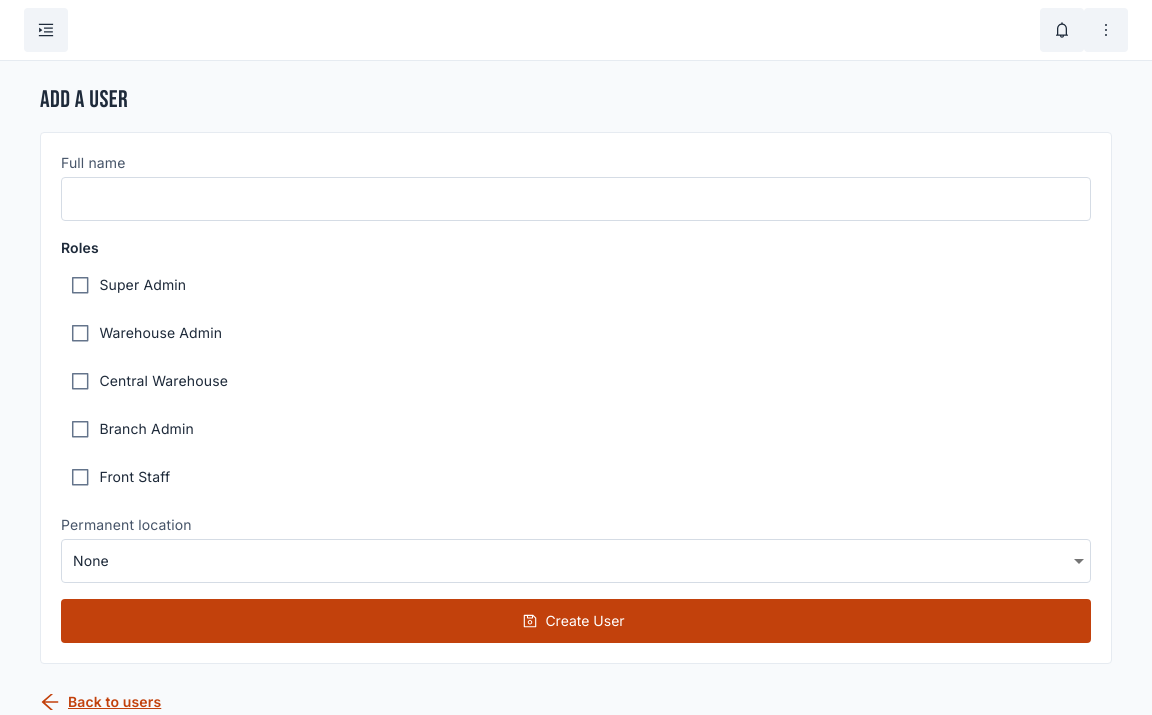
Scenario: create a user: one-time password shown once › sends the key and shows the generated ID and the password with copy, then clears on Done
Check: the heading "Add a user" is shown, box x1=40 y1=85 x2=128 y2=114
Type "Nana Addo" into the field labelled "Full name" at (576, 199), box x1=61 y1=177 x2=1091 y2=221
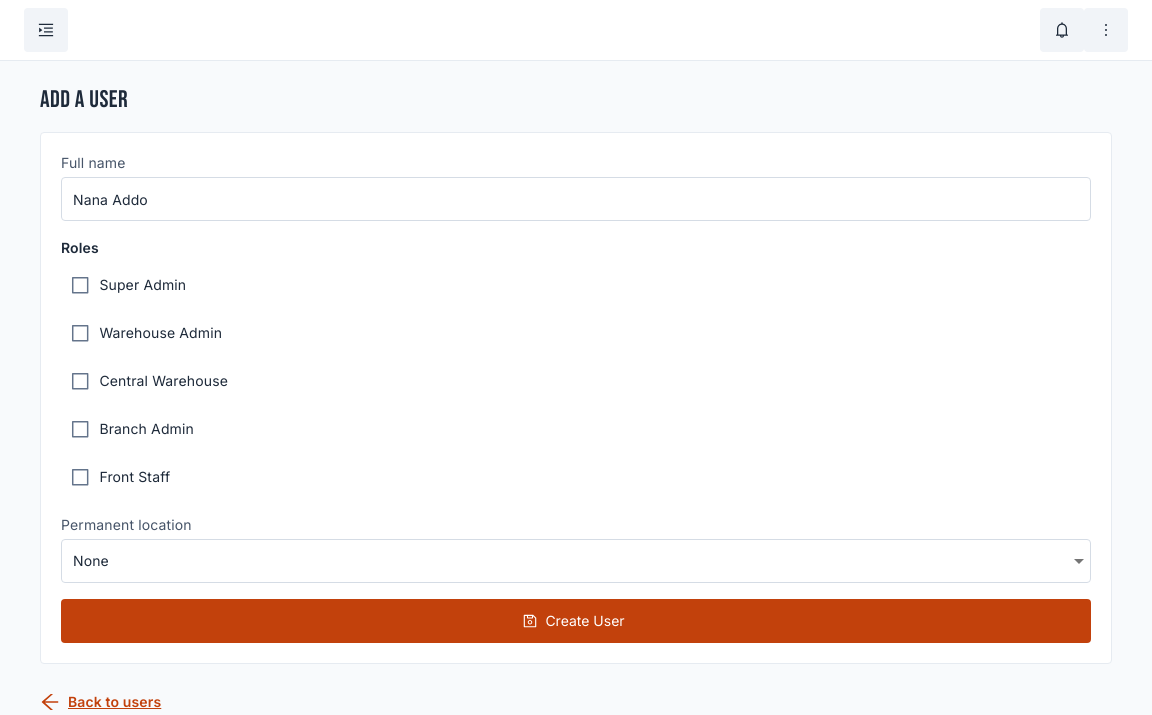
Click the checkbox labelled "Front Staff" at (121, 477), box x1=71 y1=468 x2=170 y2=486
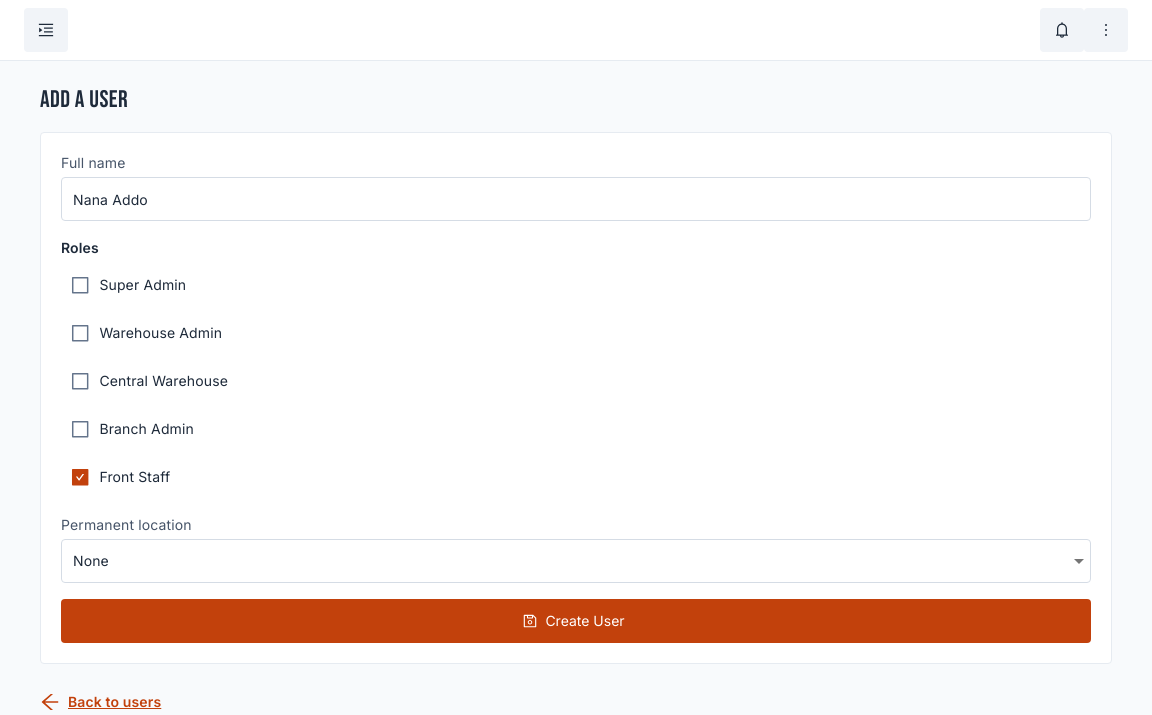
Click the button "Create user" at (576, 621), box x1=61 y1=599 x2=1091 y2=643
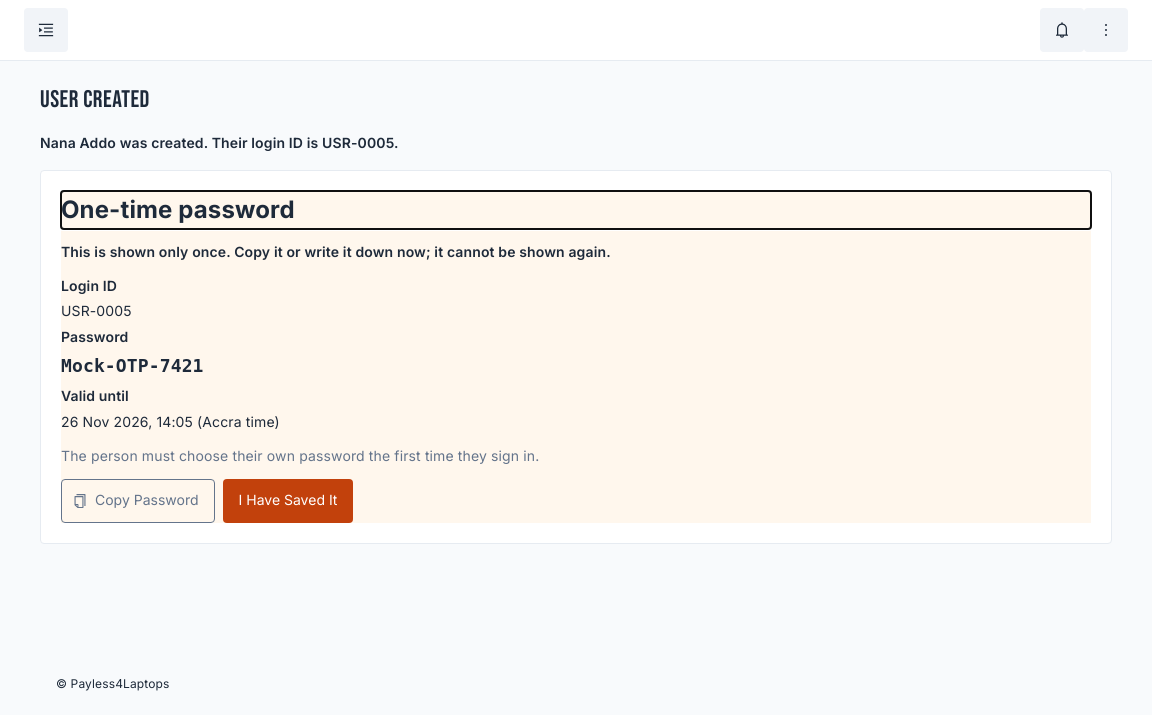
Check: the text "Mock-OTP-7421" is shown, box x1=61 y1=355 x2=204 y2=376
Check: the text "Nana Addo was created. Their login ID is USR-0005." is shown, box x1=40 y1=134 x2=399 y2=151
Check: the text "shown only once" is shown, box x1=61 y1=242 x2=611 y2=260
Click the button "Copy password" at (138, 501), box x1=61 y1=479 x2=214 y2=523
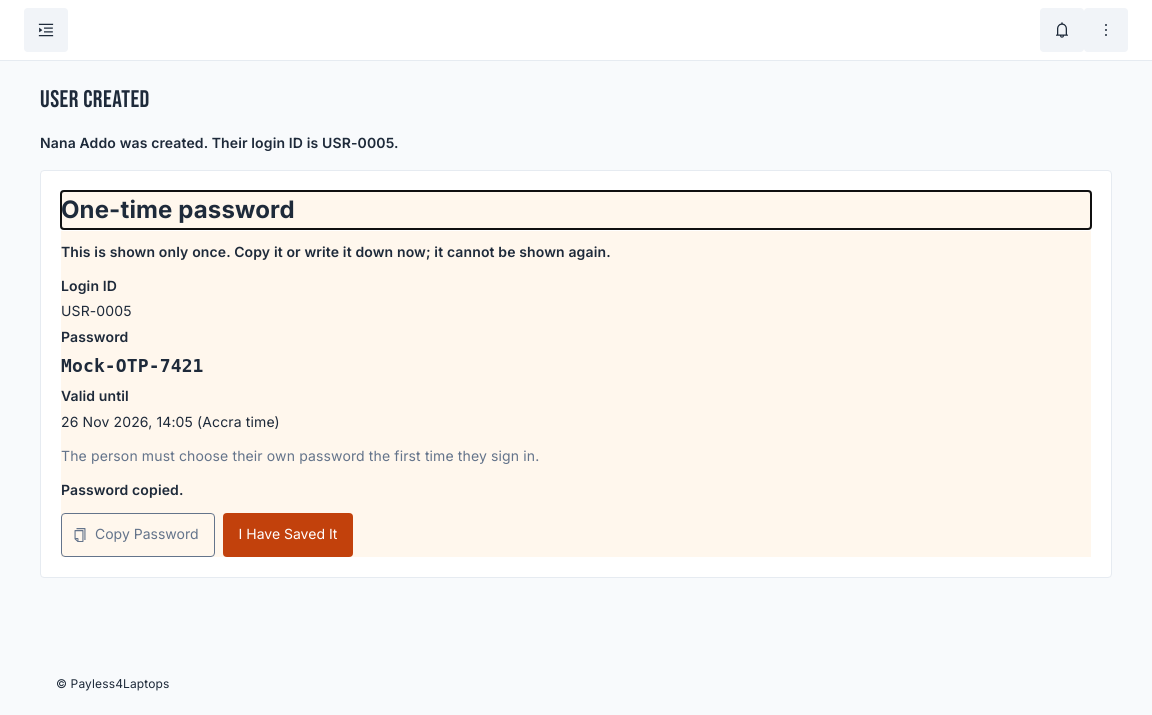
Check: the text "Password copied." is shown, box x1=61 y1=481 x2=184 y2=498
Click the button "I have saved it" at (288, 534), box x1=222 y1=512 x2=353 y2=556
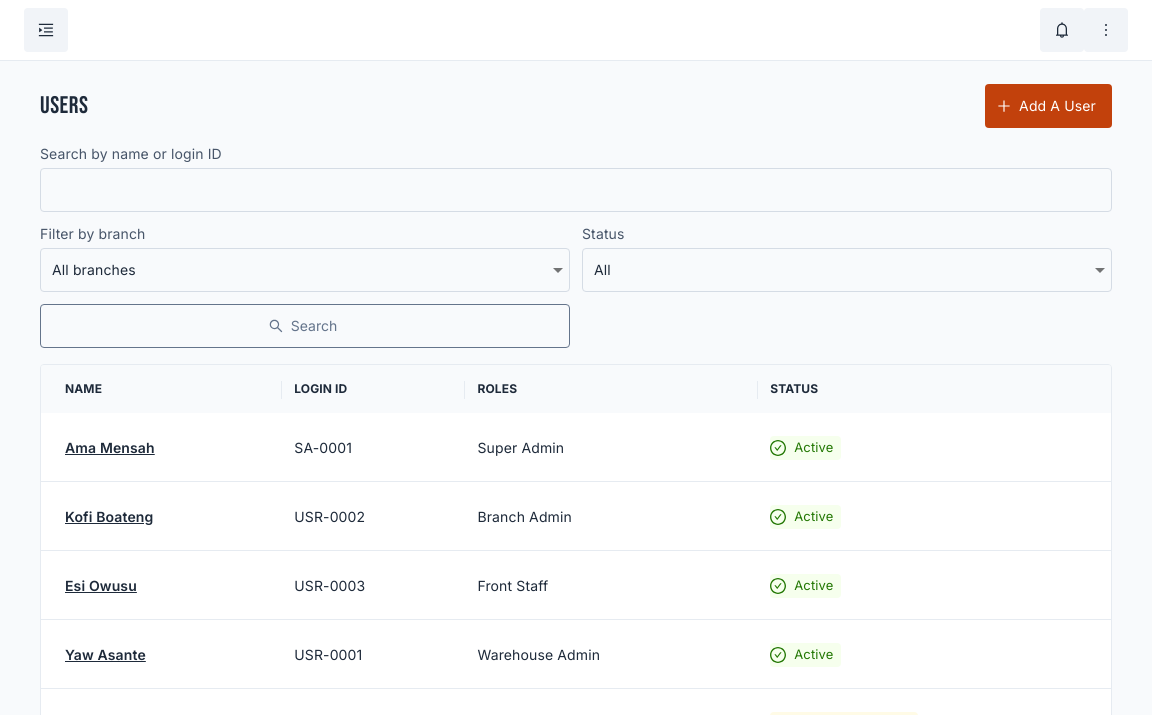
Check: the heading "Users" is shown, box x1=40 y1=91 x2=88 y2=120
Check: the text "Mock-OTP-7421" is gone
